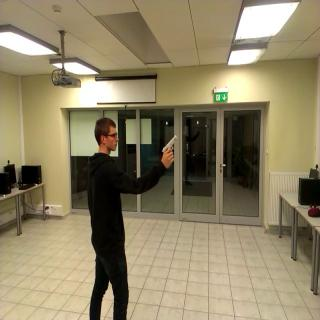gun: (156, 131, 178, 169)
